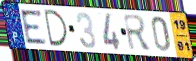0: (150, 15, 173, 54)
3: (75, 11, 97, 49)
4: (101, 12, 121, 52)
D: (42, 9, 70, 48)
E: (19, 8, 49, 45)
R: (122, 13, 154, 52)
